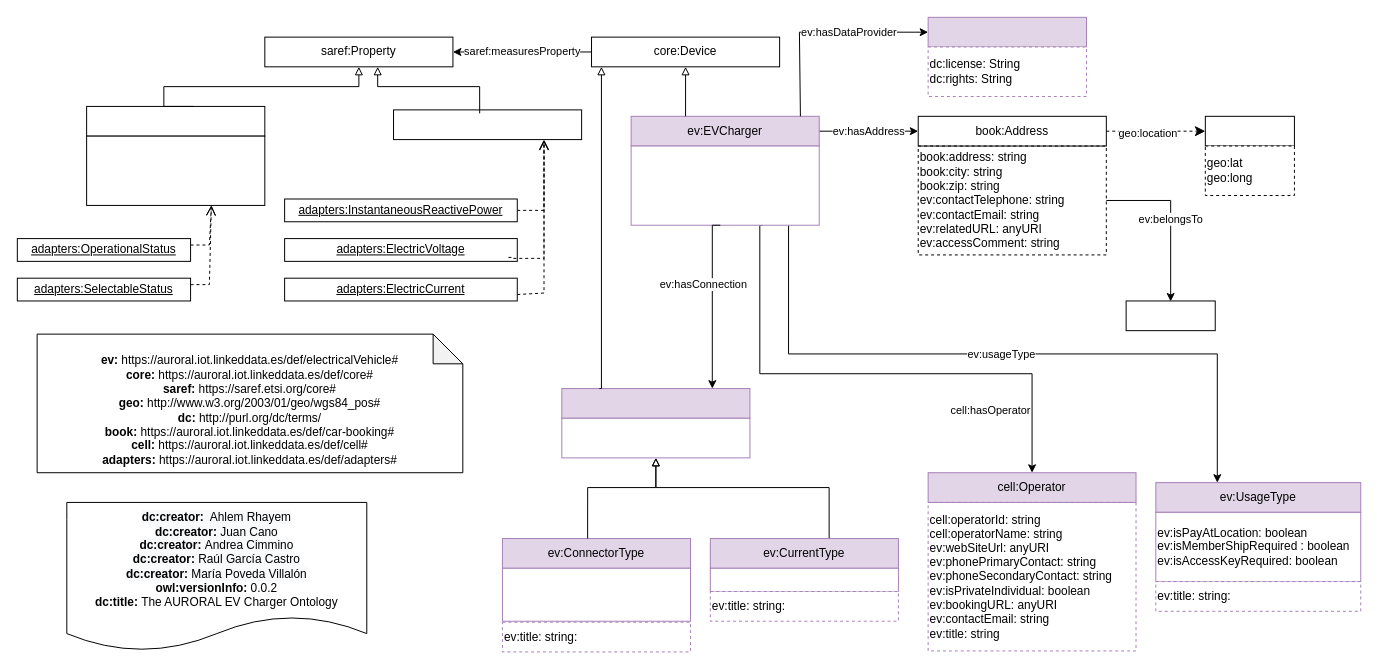
This 1378x669 diagram has some shape labels left out. Here are the shapes that lost their labels. From the top down, the box of each, then its label:
(927, 16, 1087, 47): ev:DataProvider
(86, 105, 265, 136): adapters:StatusProperty
(393, 109, 582, 140): adapters:EnergyProperty
(1204, 115, 1294, 146): geo:Point
(86, 135, 265, 205): adapters:title: string adapters:dateLastStatusUpdate: dateTime
(630, 145, 819, 225): ev:identifierId: integer ev:numberOfPoints: integer ev:generalComment: integer
(1125, 300, 1215, 331): core:Country
(561, 388, 750, 418): ev:Connector
(561, 417, 750, 458): ev:quantity: integer
(501, 567, 691, 621): ev:formalName: string ev:isDiscontinued: boolean ev:isObsolete : boolean
(709, 567, 898, 592): ev:description: string
